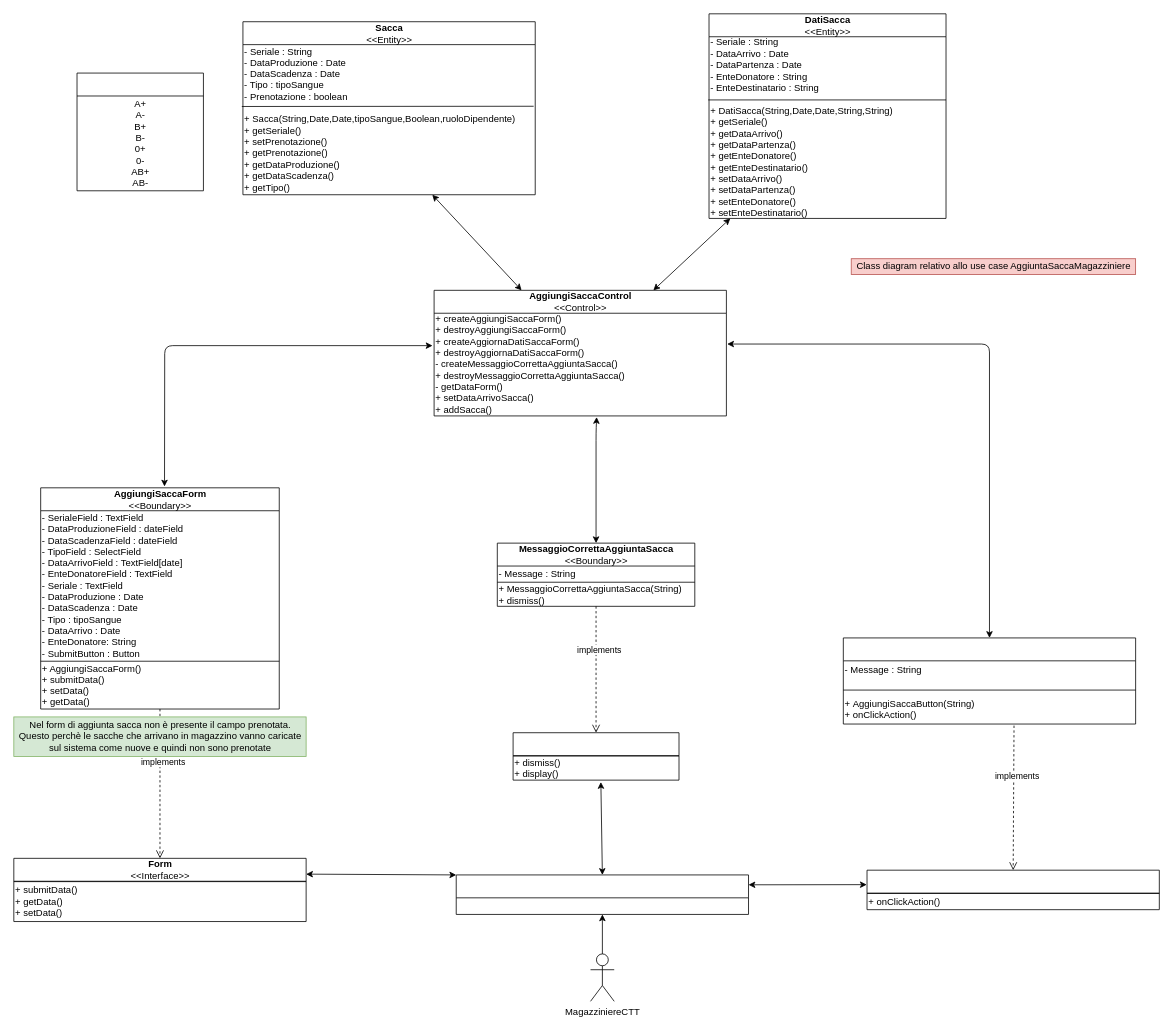
Image size: 1173x1032. Some labels were removed from this diagram. The box of each missing label's shape, as (x1, y1, x2, y2) in pixels:
AggiungiSaccaButton <<Boundary>>: (843, 637, 1136, 724)
Button <<Interface>>: (866, 869, 1159, 910)
Message <<Interface>>: (512, 732, 679, 780)
TerminaleMagazziniereCTT <<Boundary>>: (455, 874, 749, 914)
tipoSangue <<Enumeration>>: (76, 72, 203, 191)
